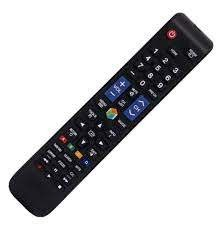remote control: (10, 7, 221, 228)
